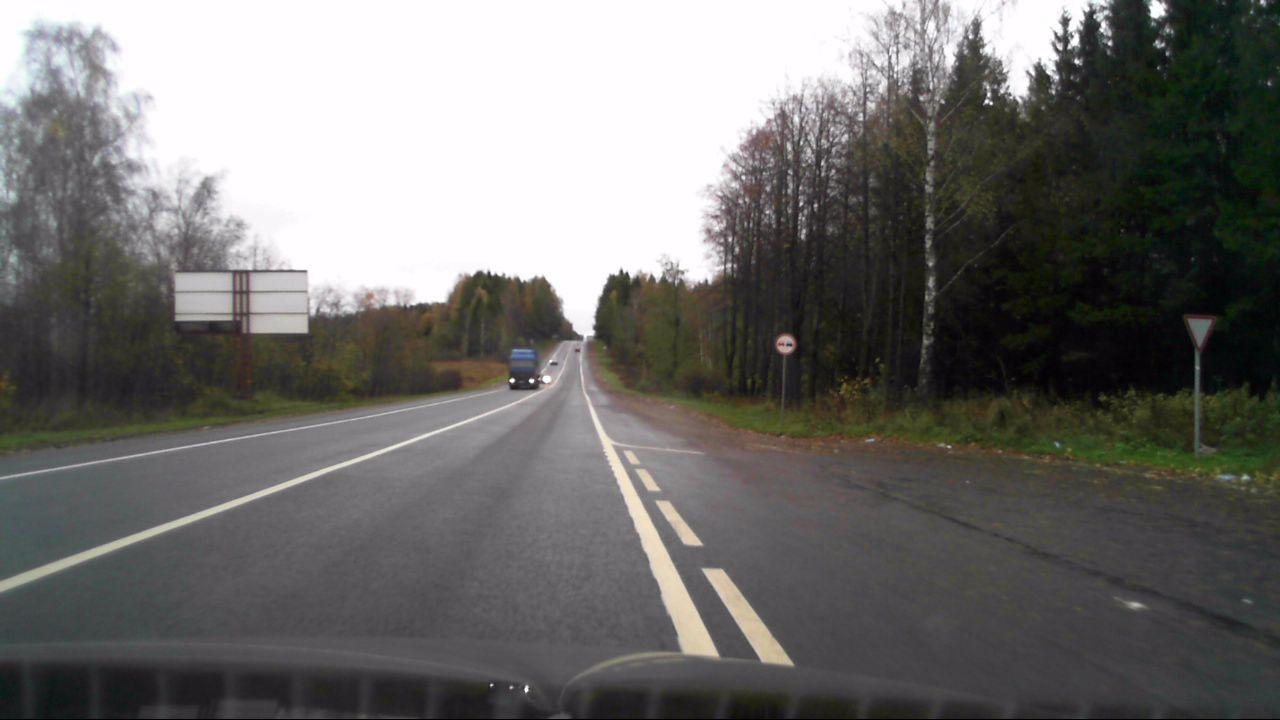2_4: (1179, 313, 1216, 350)
3_20: (775, 333, 796, 355)
